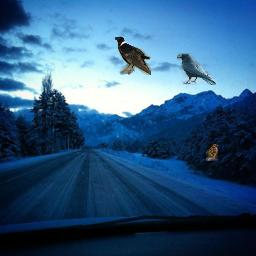Crow: (114, 35, 151, 75), (177, 53, 217, 85)
Sparrow: (206, 144, 218, 161)
